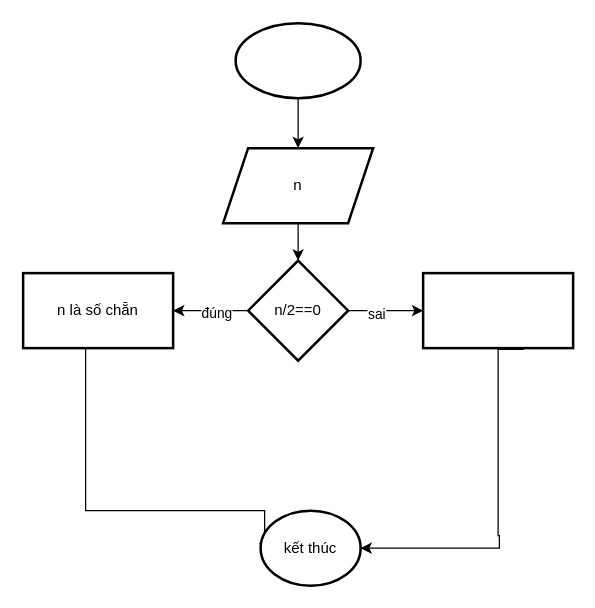
The diagram is 595 pixels wide and 608 high, and some of its shapes have lost their labels. Each missing label, with the centre of its shape:
bắt đầu: [297,60]
n là số lẻ: [497,310]
